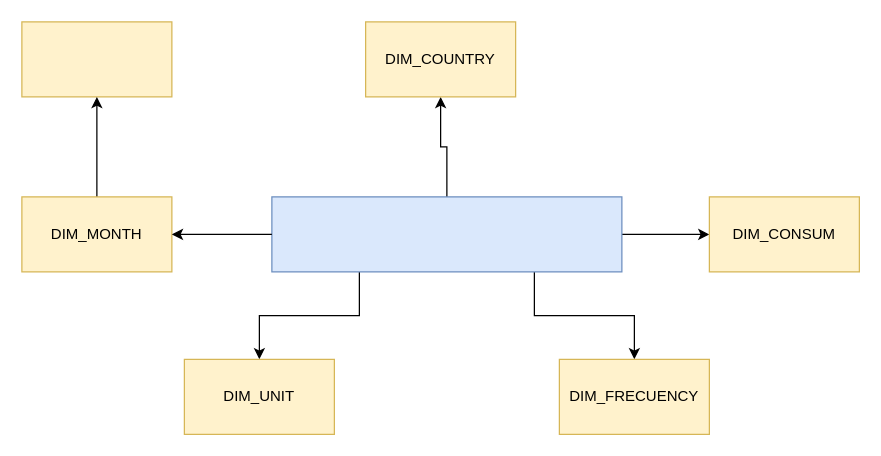
Some shapes in this 881 by 456 pixel diagram are drawn without their labels. Each missing label, with the centre of its shape:
"DIM_YEAR" goes at [96,59].
"FACT_EUROZONE_ENERGY_MARKET" goes at [446,234].
